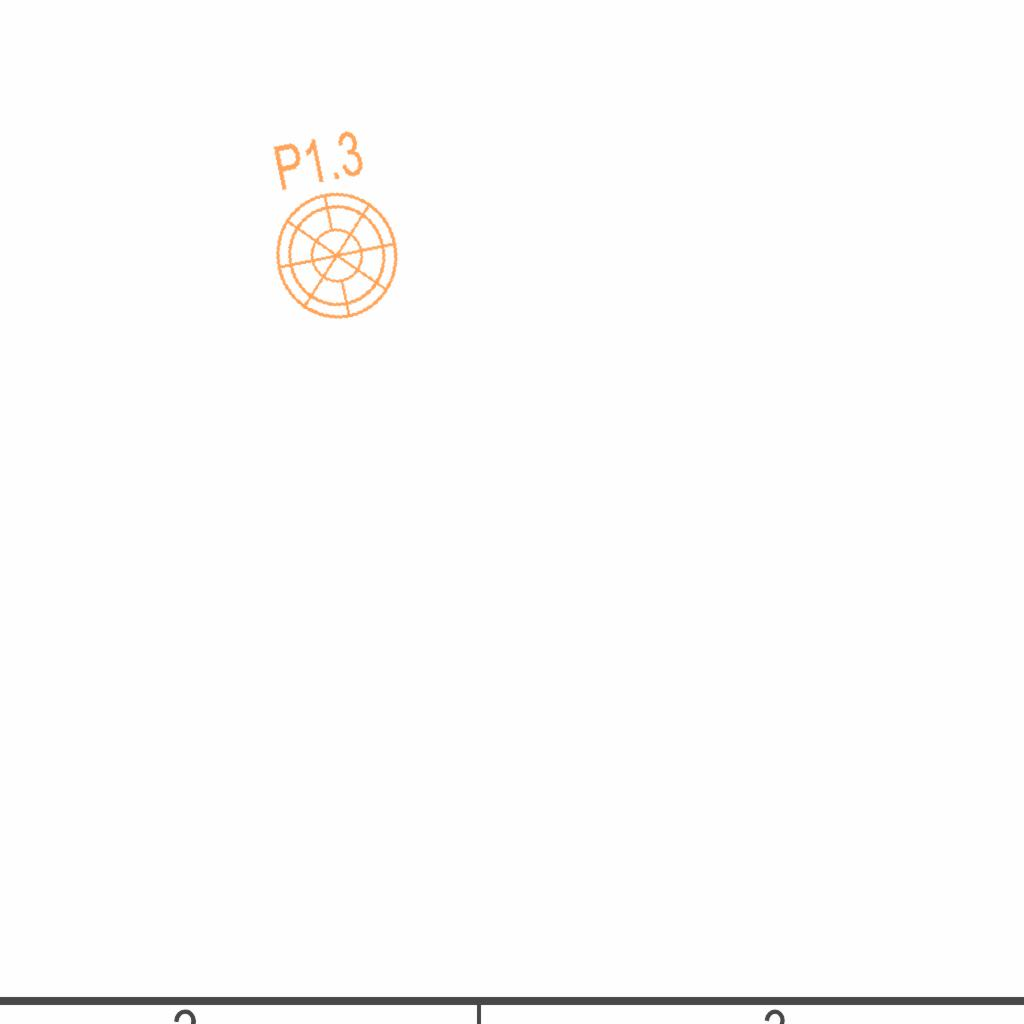Aufbaurundleuchte_LED_Treppenhaus: (247, 105, 424, 334)
